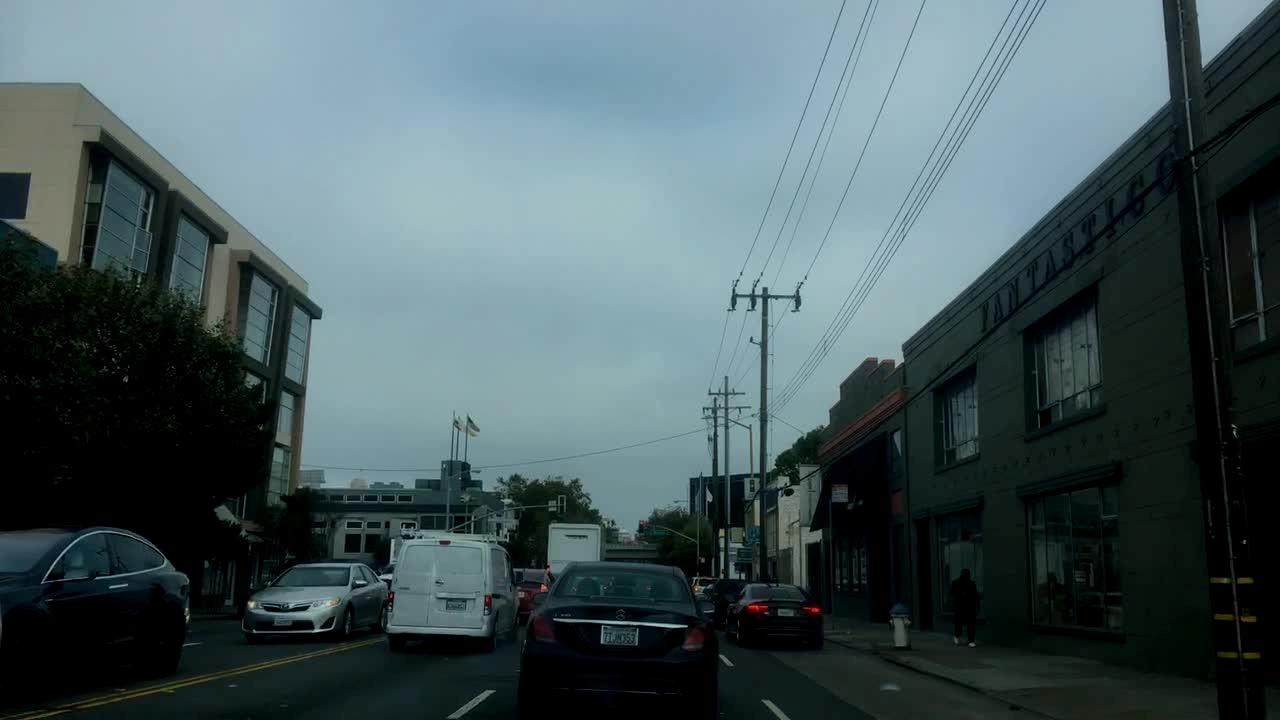Citroen: (615, 606, 627, 623)
